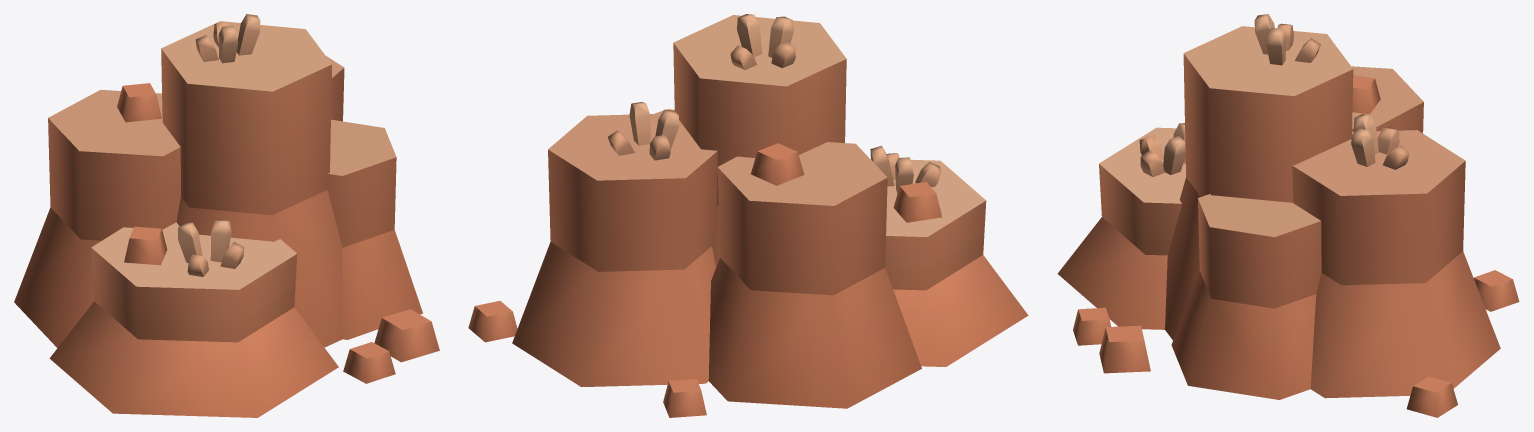
Rendered from rocks-sand-c.glb.
The picture shows the model from 3 angles, left to right: view 1: azimuth 30°, elevation 25°; view 2: azimuth 150°, elevation 25°; view 3: azimuth 270°, elevation 25°; orthographic projection. The views are drawn at different scales.
Visible parts, largest first — view 1: rocks-sand-c; view 2: rocks-sand-c; view 3: rocks-sand-c.
Part boxes in pixels (x1,y1,x2,y2): rocks-sand-c: (14,14,439,417); rocks-sand-c: (468,14,1028,417); rocks-sand-c: (1057,14,1519,417).
Bounding box in the file's own units: 3.71 × 2.61 × 3.72.
1 material, 1 textured.
